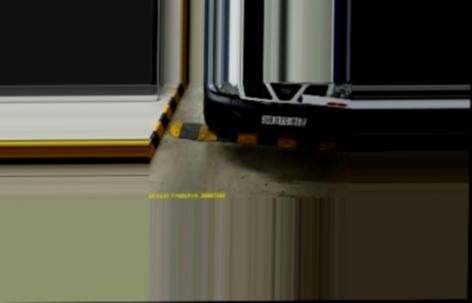License_Plate: (258, 112, 310, 128)
